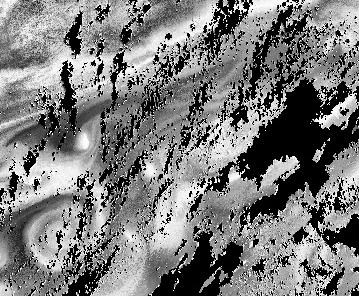AE: (26, 191, 97, 269)
